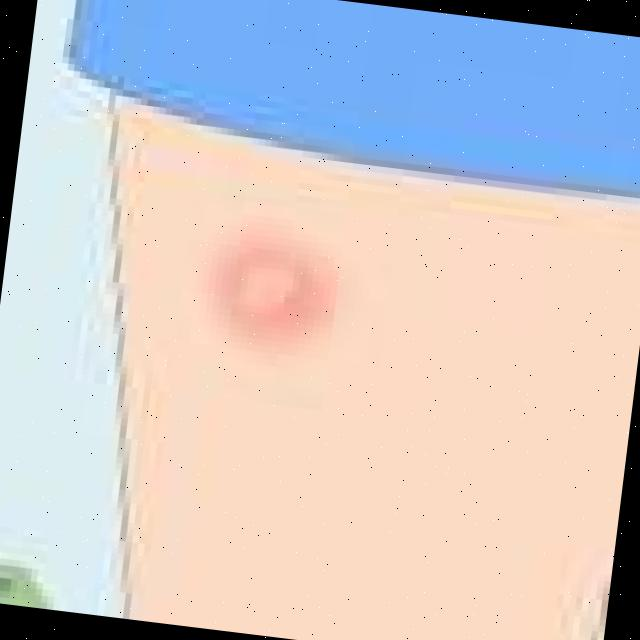kan emici bocekler: (197, 205, 368, 363)
